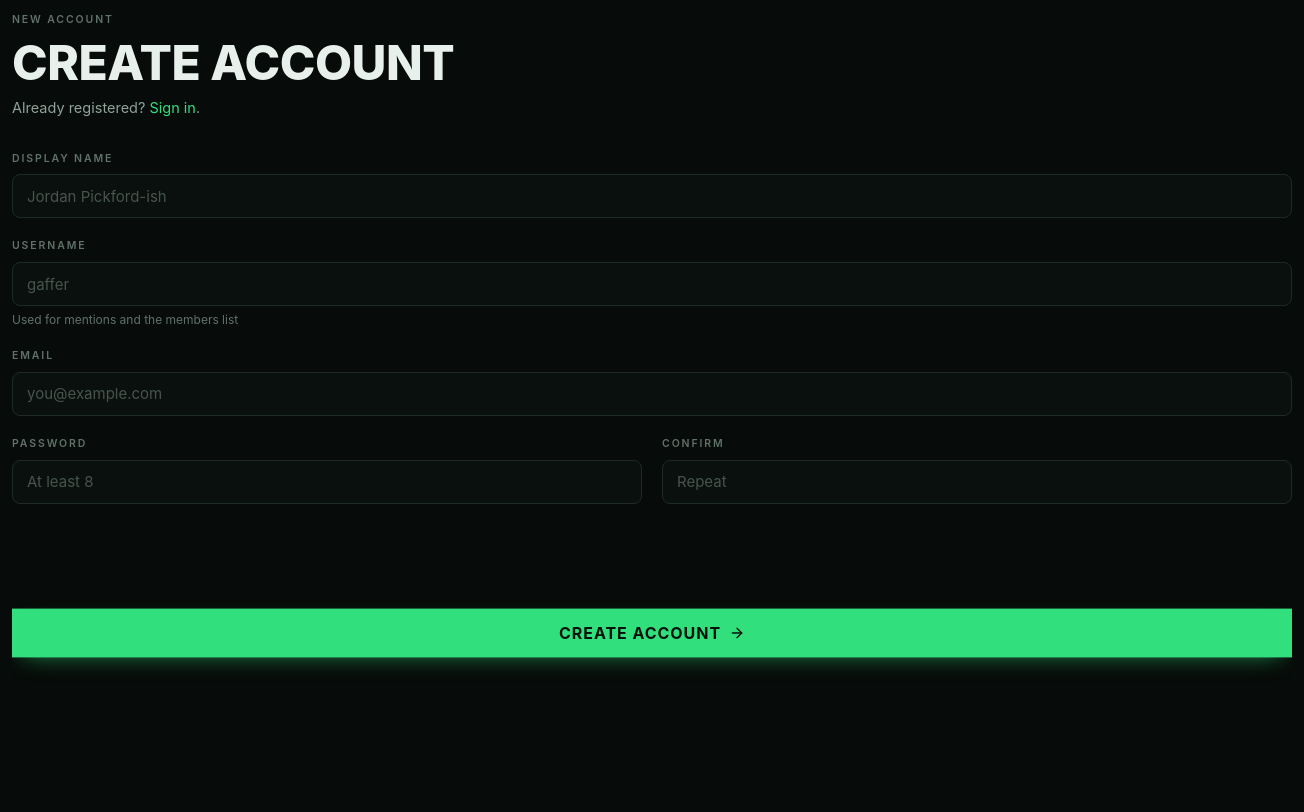
signup form › resets the challenge after a rejected signup
The width and height of the screenshot is (1304, 812).
Type "Mo Salah" into the field labelled "Display name". click: [652, 196]
box: [12,174,1292,218]
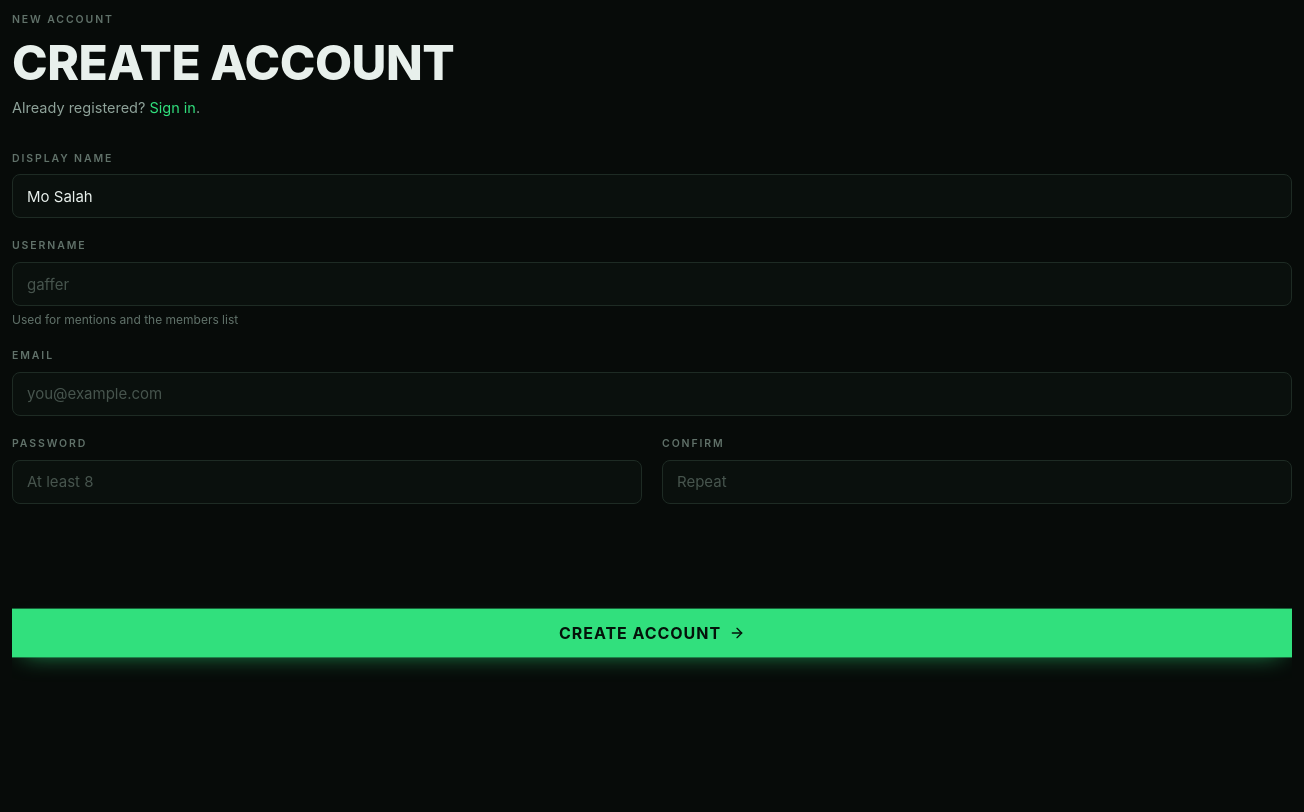
Type "mosalah" into the field labelled "Username Used for mentions and the members list". click: [652, 284]
box: [12,262,1292,306]
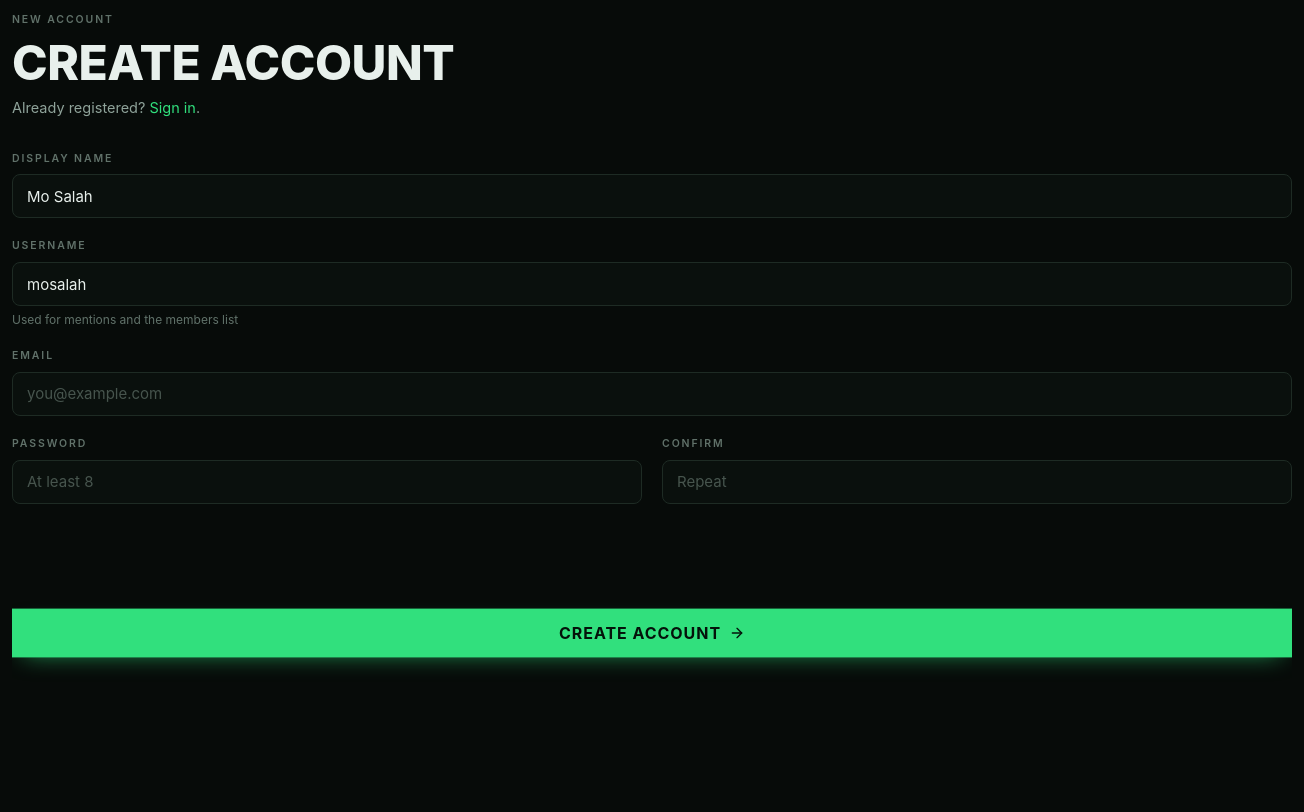
Type "mo@example.com" into the field labelled "Email". click: [652, 394]
box: [12,372,1292,416]
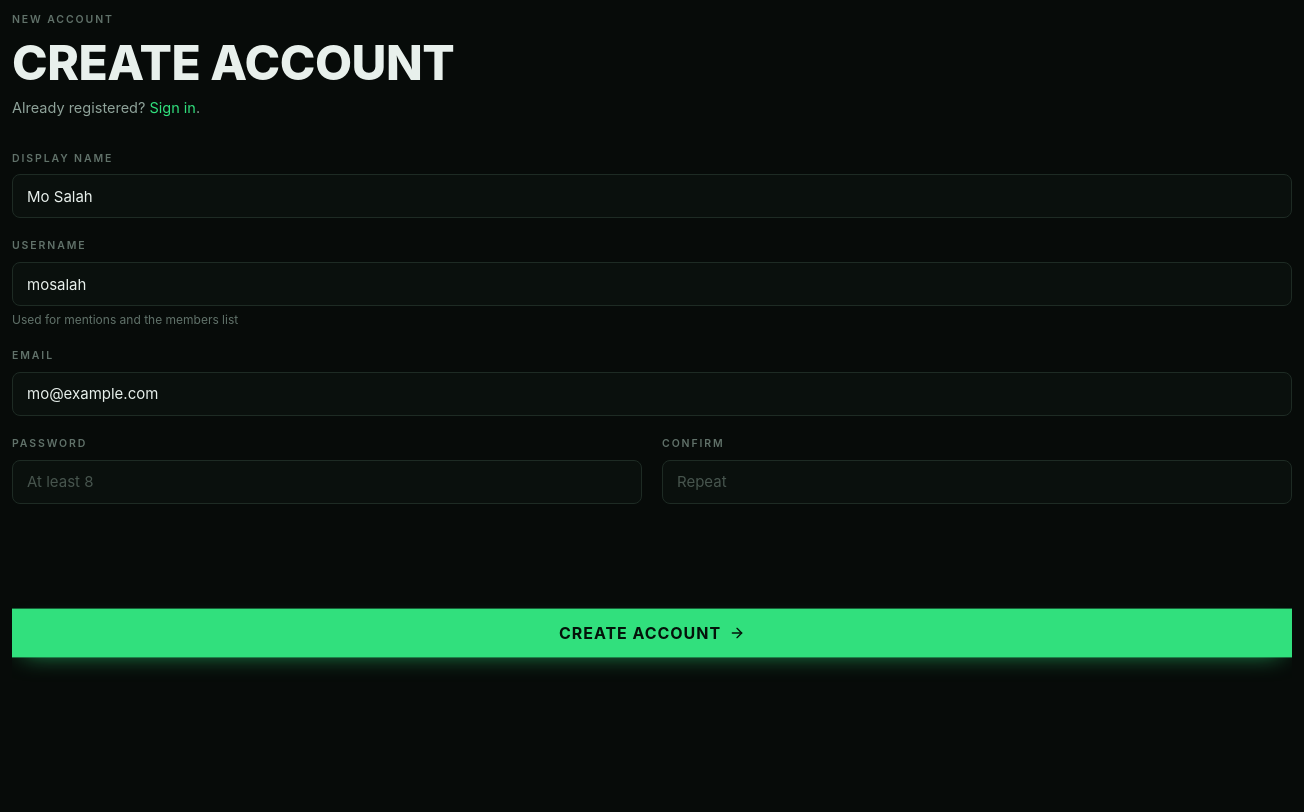
Type "hunter2pass" into the password field labelled "Password". click: [327, 482]
box: [12,460,642,504]
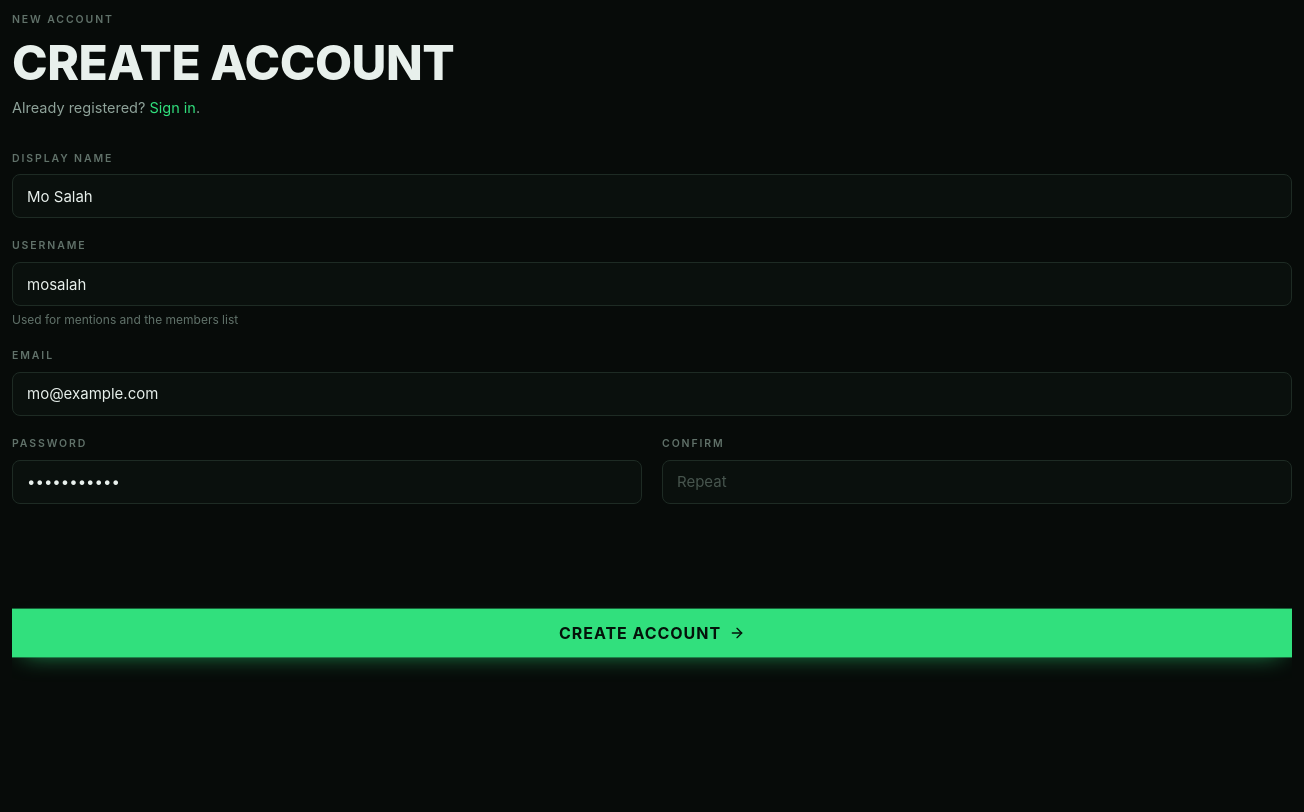
Type "hunter2pass" into the password field labelled "Confirm". click: [977, 482]
box: [662,460,1292,504]
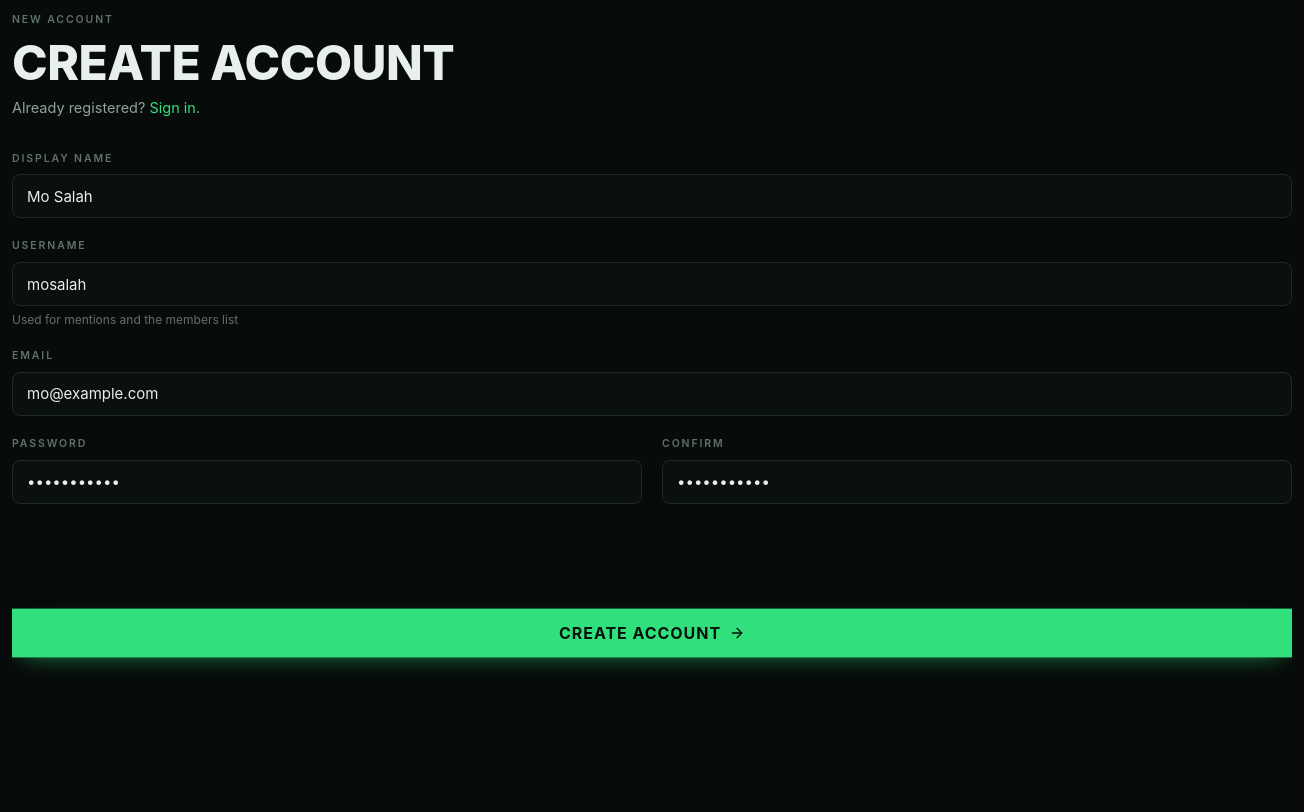
Click the button "Create account". click: [652, 633]
box: [12,609,1292,657]
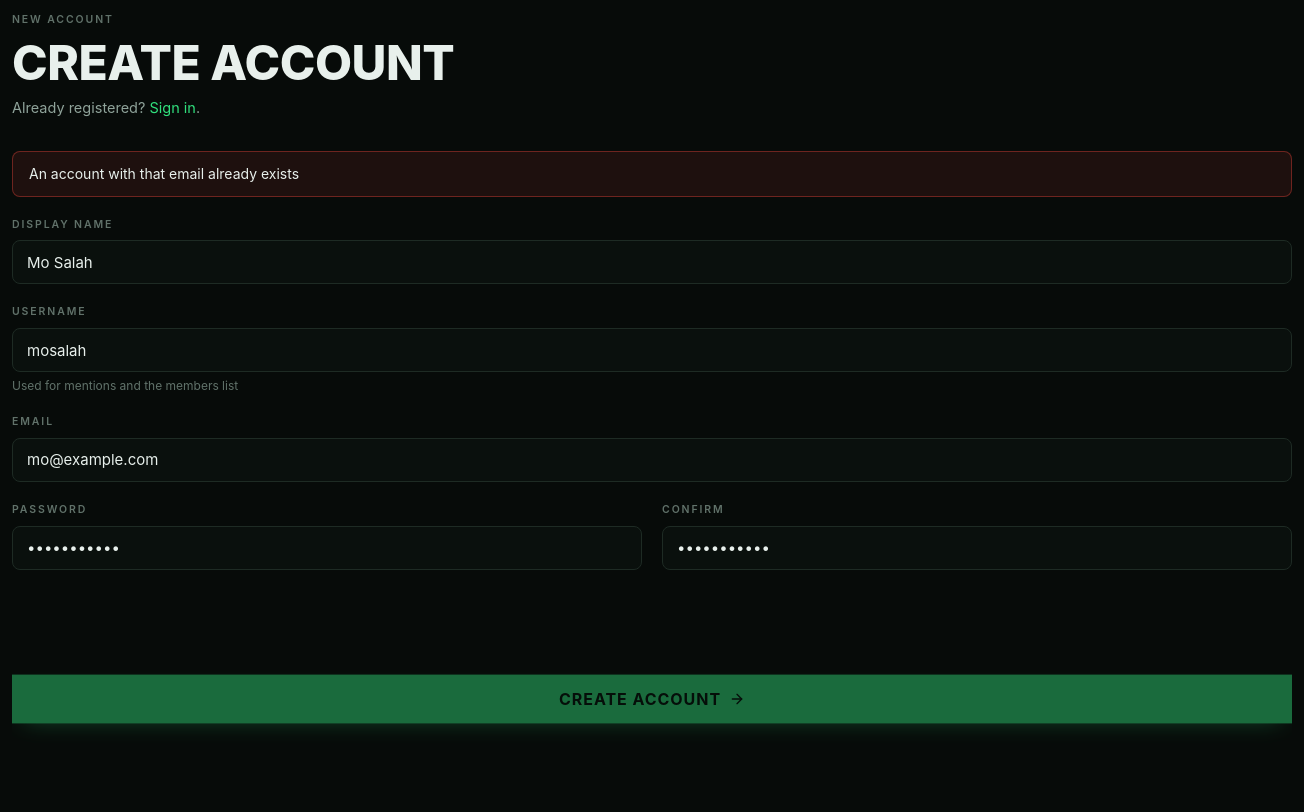
Expected: the text "An account with that email already exists" is shown, [12,151,1292,197]
Expected: the button "Create account" is disabled, [12,675,1292,723]
